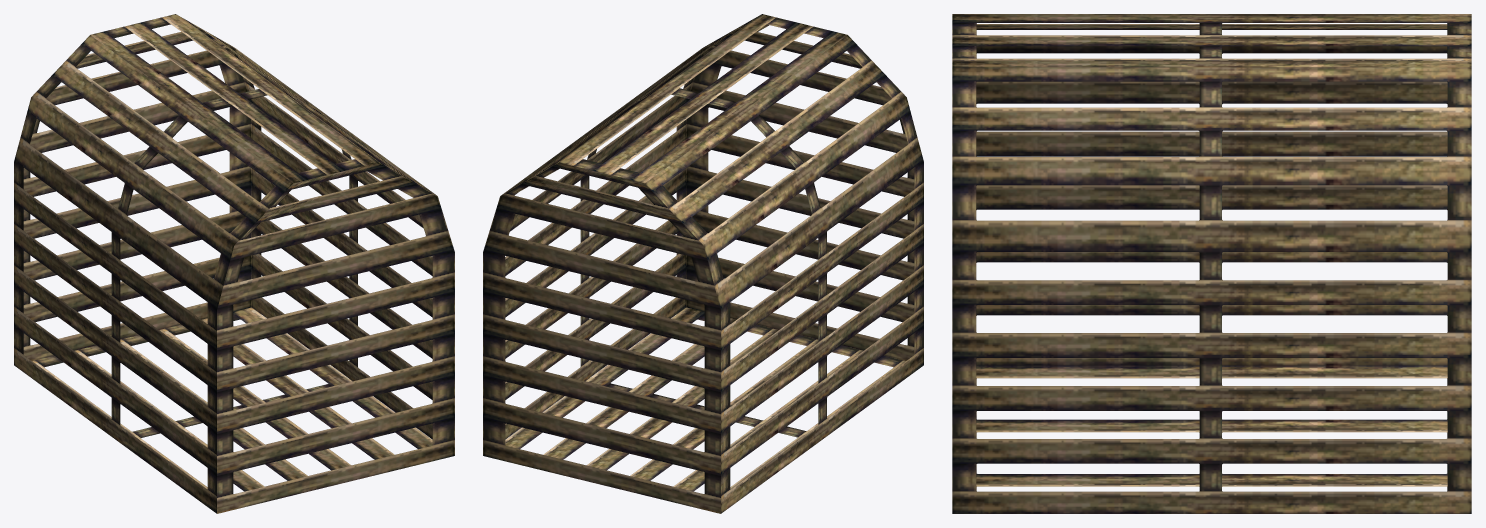
The model's file is INST_LT_LOBSTERBOX.fbx.
3 renders of one model, left to right at view 1: azimuth 30°, elevation 25°; view 2: azimuth 150°, elevation 25°; view 3: azimuth 270°, elevation 25°, orthographic. The views are drawn at different scales.
Visible parts, largest first — view 1: INST_LT_LOBSTERBOX; view 2: INST_LT_LOBSTERBOX; view 3: INST_LT_LOBSTERBOX.
Boxes of the visible parts, x1,y1,x2,y2 form: INST_LT_LOBSTERBOX: (14, 14, 454, 513); INST_LT_LOBSTERBOX: (483, 14, 923, 513); INST_LT_LOBSTERBOX: (952, 14, 1471, 513).
Size of the model in its own units: 3188 by 3996 by 4714.
1 material, 1 textured.
